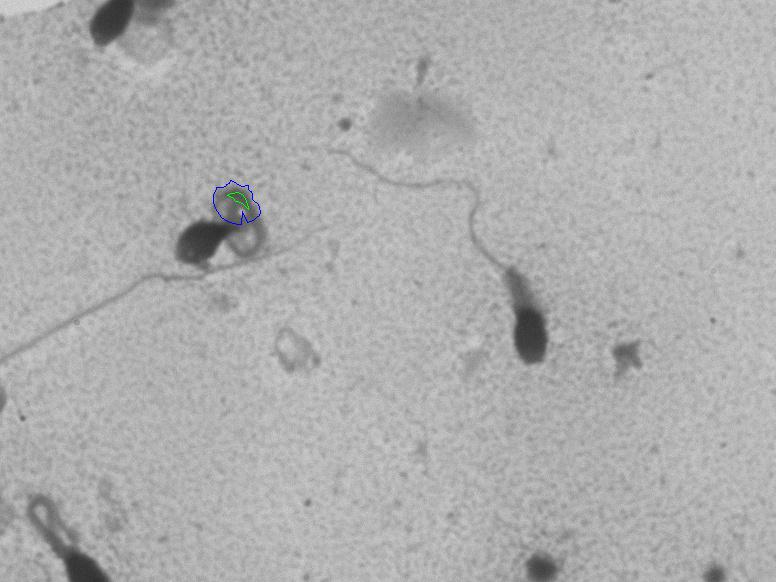Abnormal: (324, 113, 575, 384)
